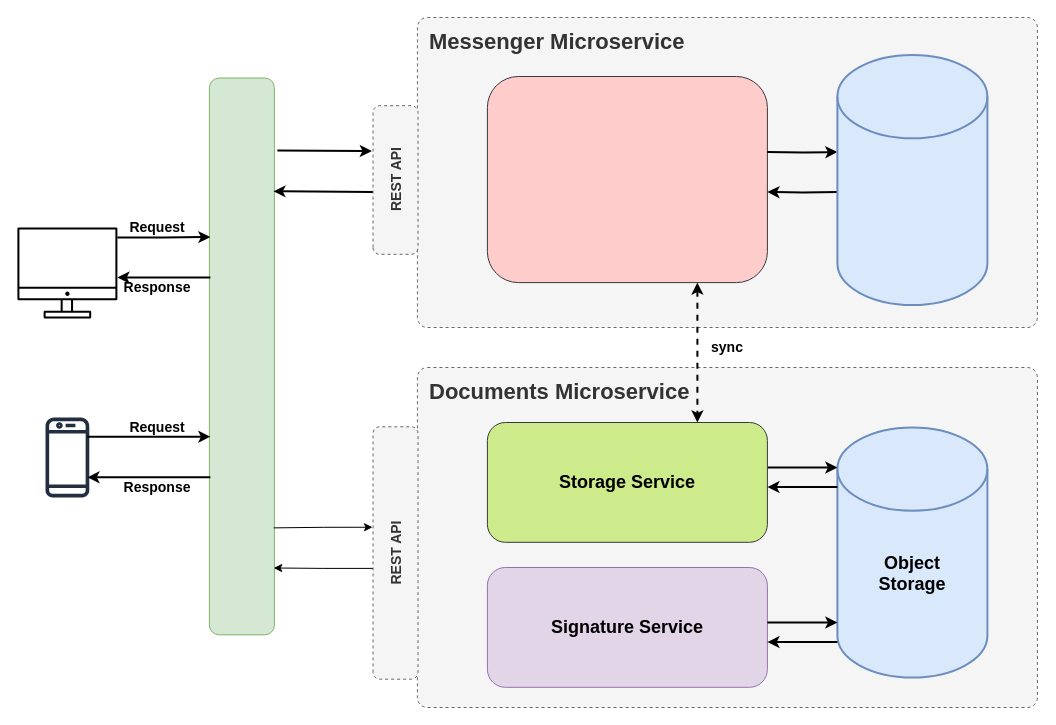
Image size: 1056x725. Some labels were removed from this diagram. The centre of each missing label's shape, as x and y in pixels:
"API GATEWAY" belongs at (241,356).
"Messanger Service" belongs at (626,179).
"PostgreSQL Database" belongs at (912,180).
